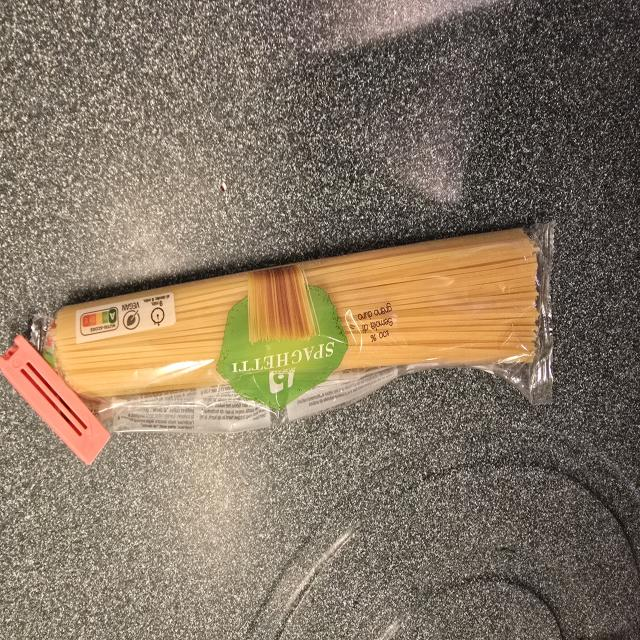Pasta: (42, 216, 555, 438)
